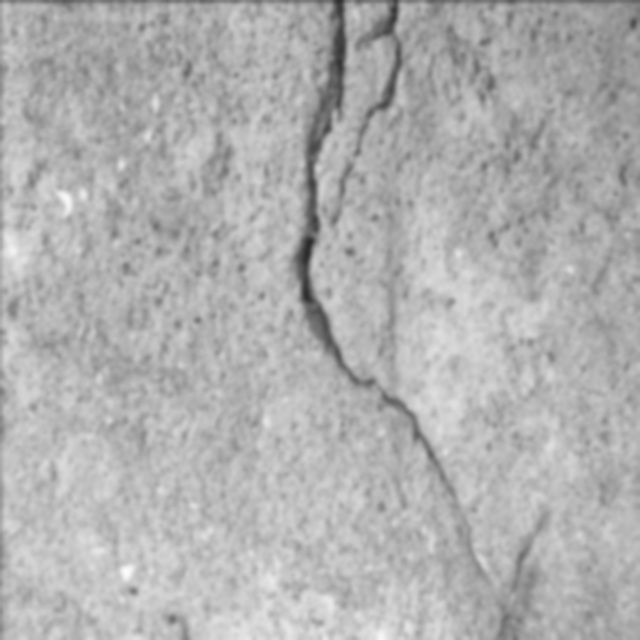SurfaceCrack: (261, 1, 562, 640)
